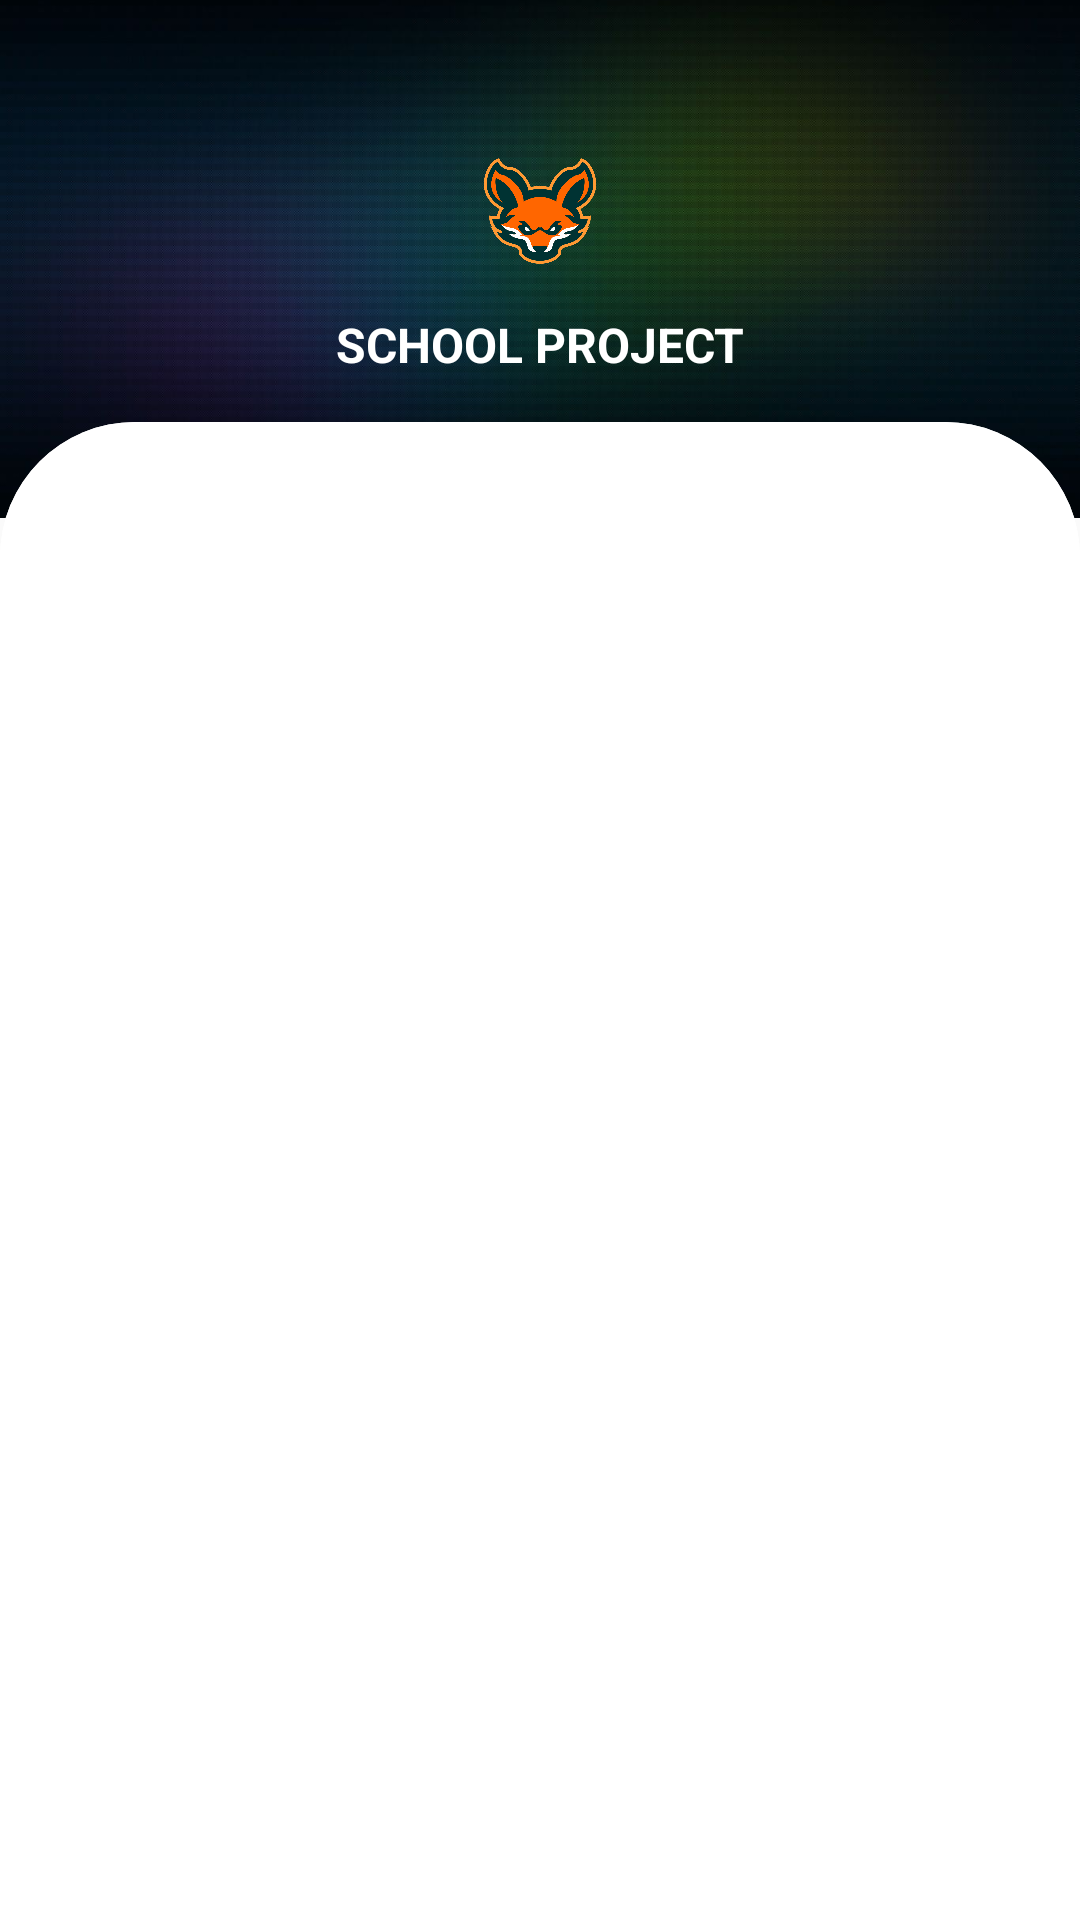

Point at icon controls on the screen. Image size 1080w x 1920h, points as (x,y).
fox: (540,211)
